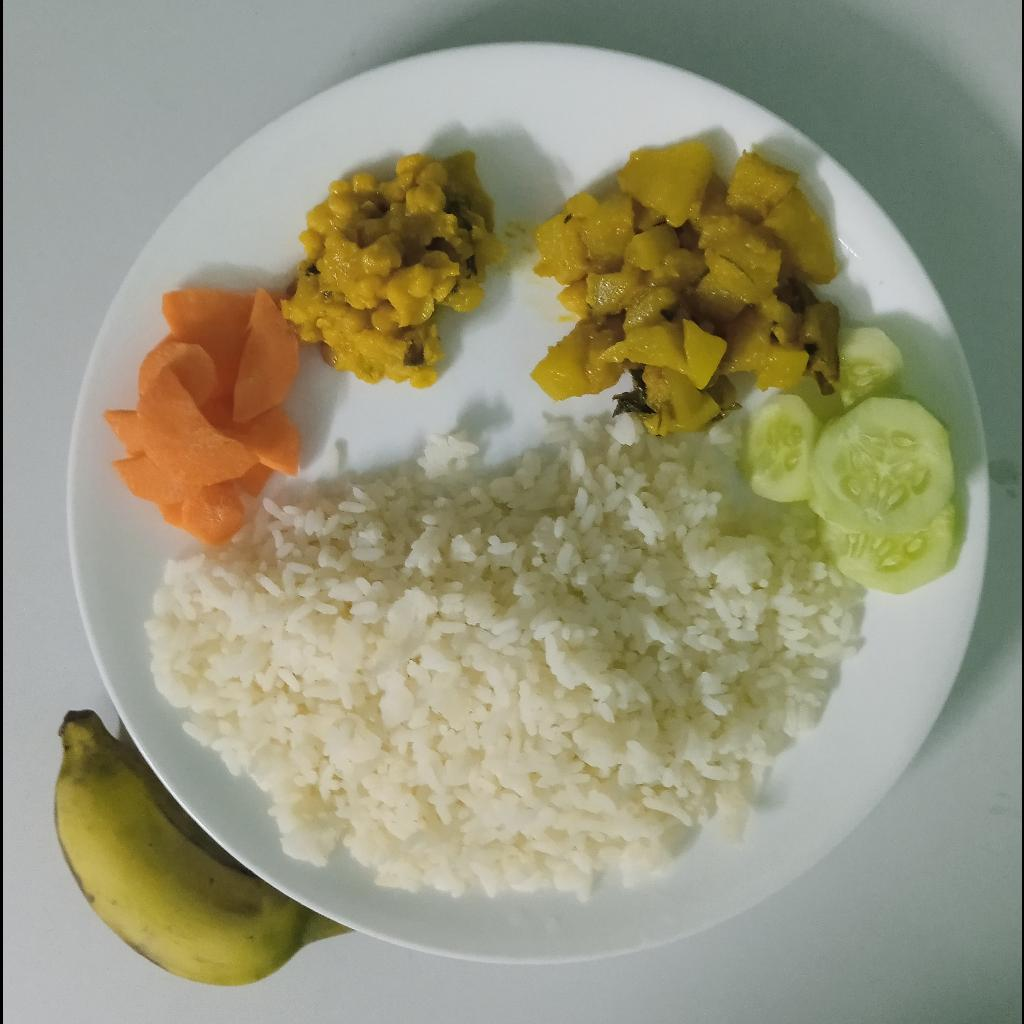banana: (53, 711, 357, 987)
cabbage: (522, 139, 839, 437)
carrot: (106, 287, 301, 548)
cucumber: (737, 328, 966, 597)
daal: (278, 150, 505, 386)
rice: (140, 421, 861, 902)
